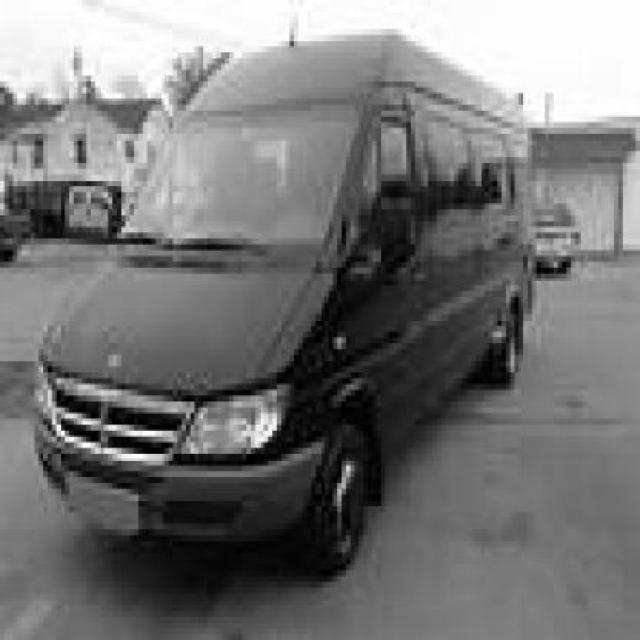Van: (33, 33, 537, 581)
